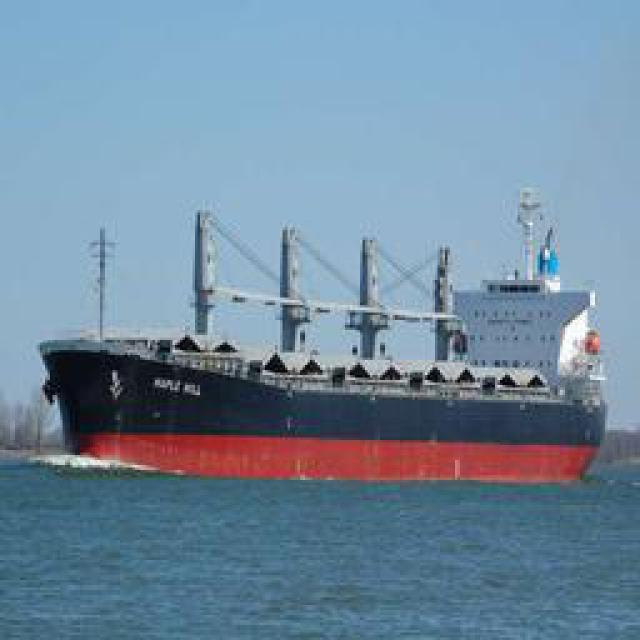Ship: (38, 196, 606, 486)
